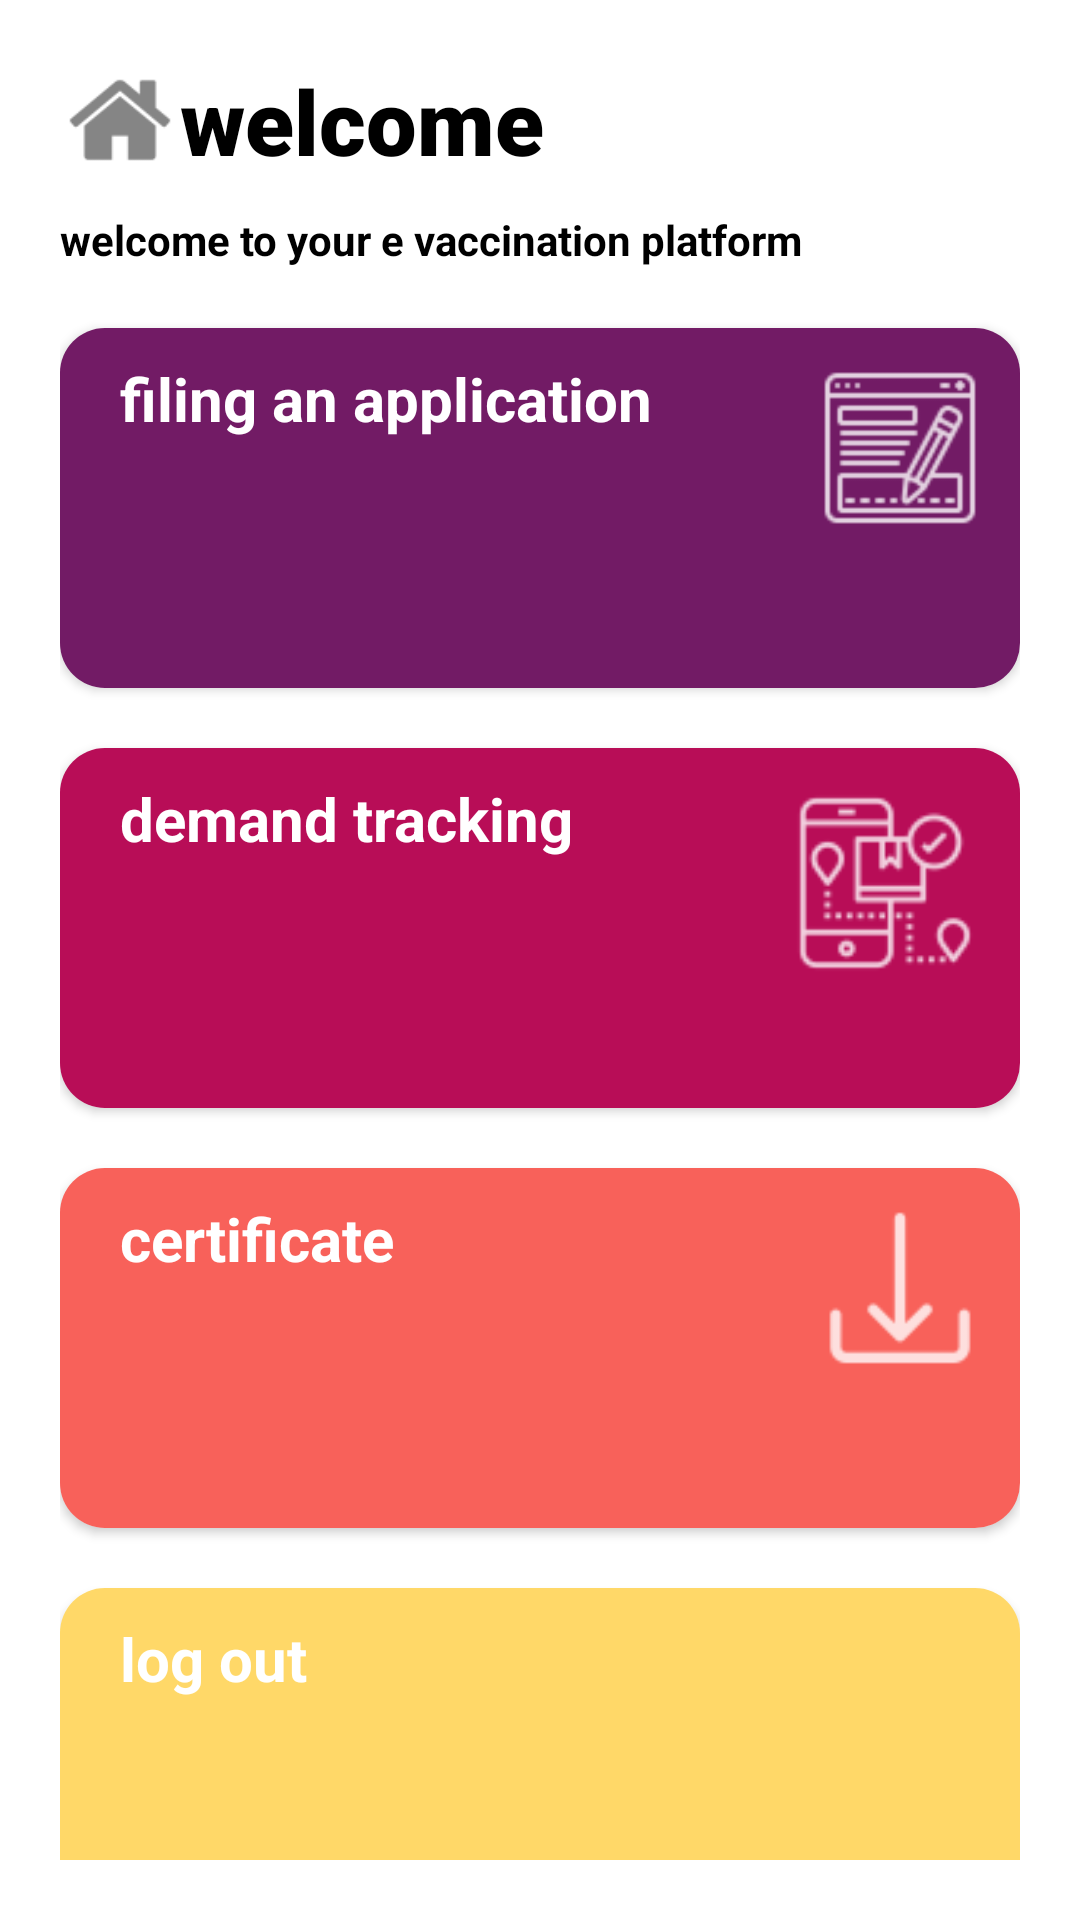

Point at icon controls on the screen. Image size 1080x1920, points as (x=x, y=y).
download: (x=900, y=1288)
home: (x=120, y=120)
track: (x=885, y=883)
